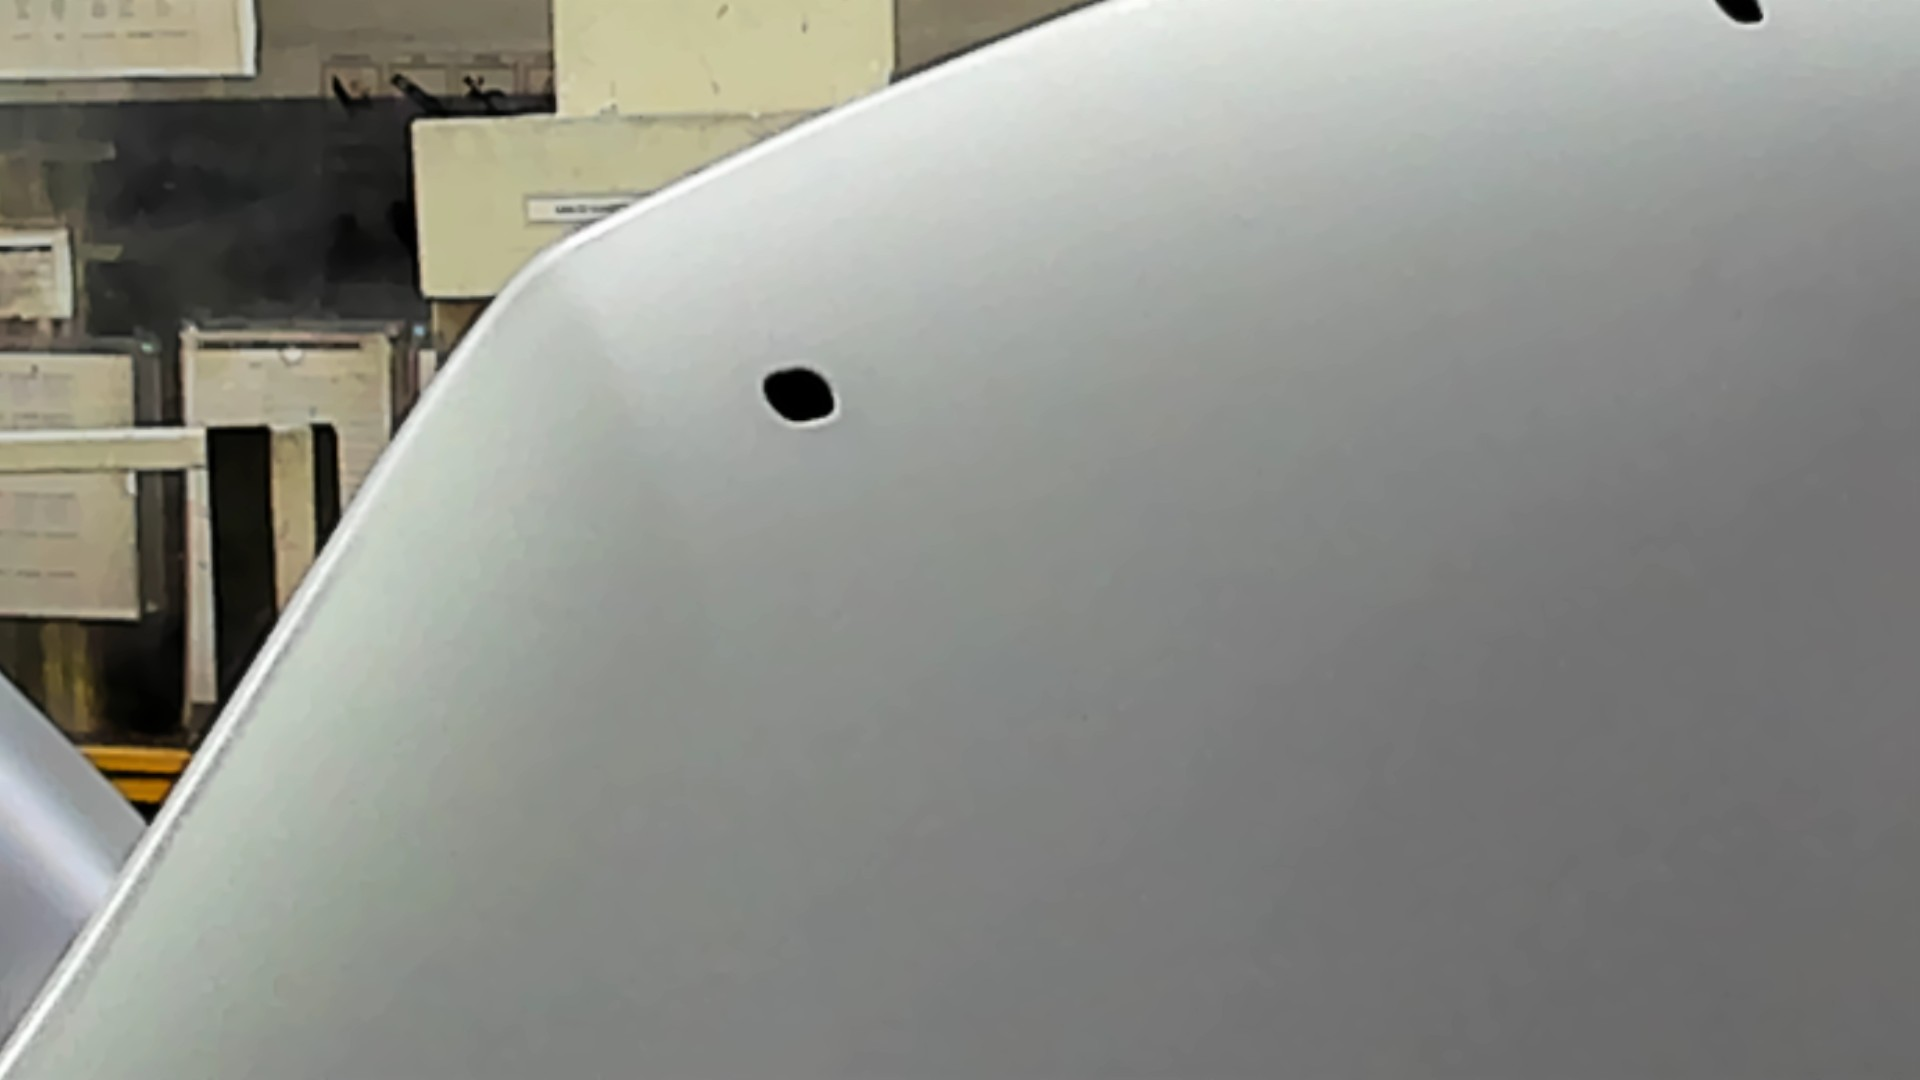amorfo: (757, 365, 847, 429), (1709, 1, 1774, 32)
